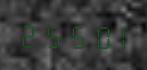five: (62, 19, 83, 50), (40, 19, 61, 49)
one: (106, 20, 127, 50)
two: (18, 19, 39, 49)
zero: (84, 20, 105, 50)
